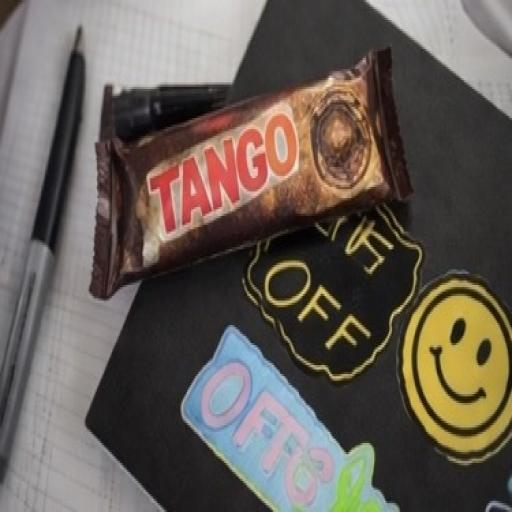tango: (66, 50, 444, 288)
